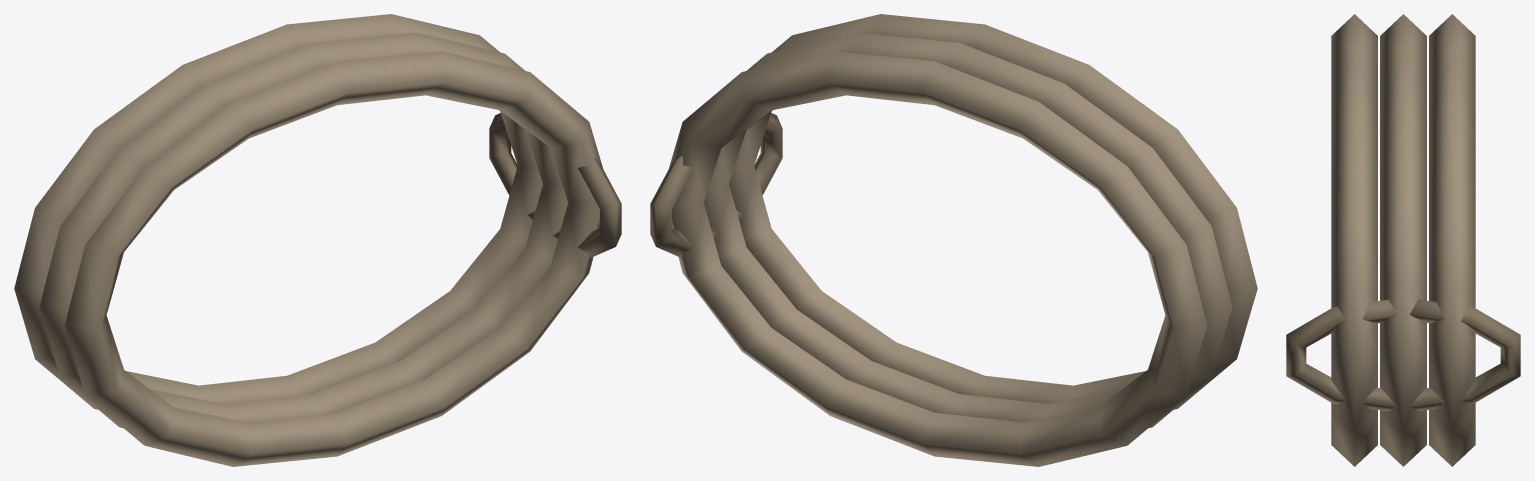
The model's file is rope_coil_bound.glb.
3 views of the same model, side by side, from view 1: azimuth 30°, elevation 25°; view 2: azimuth 150°, elevation 25°; view 3: azimuth 270°, elevation 25° (orthographic). The views are drawn at different scales.
Visible parts, largest first — view 1: rope_coil_bound; view 2: rope_coil_bound; view 3: rope_coil_bound.
Boxes of the visible parts, bbox=[...] form: rope_coil_bound: bbox=[14, 14, 621, 466]; rope_coil_bound: bbox=[650, 14, 1257, 466]; rope_coil_bound: bbox=[1286, 14, 1520, 466].
Size of the model in its own units: 0.65 by 0.45 by 0.2495.
